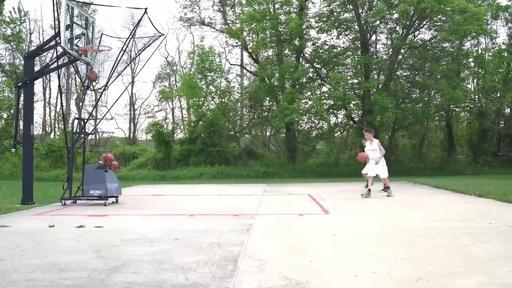ball: (86, 70, 98, 82), (102, 153, 114, 165), (358, 152, 368, 162), (112, 160, 119, 170)
human: (361, 128, 394, 197)
rim: (80, 44, 114, 70)
